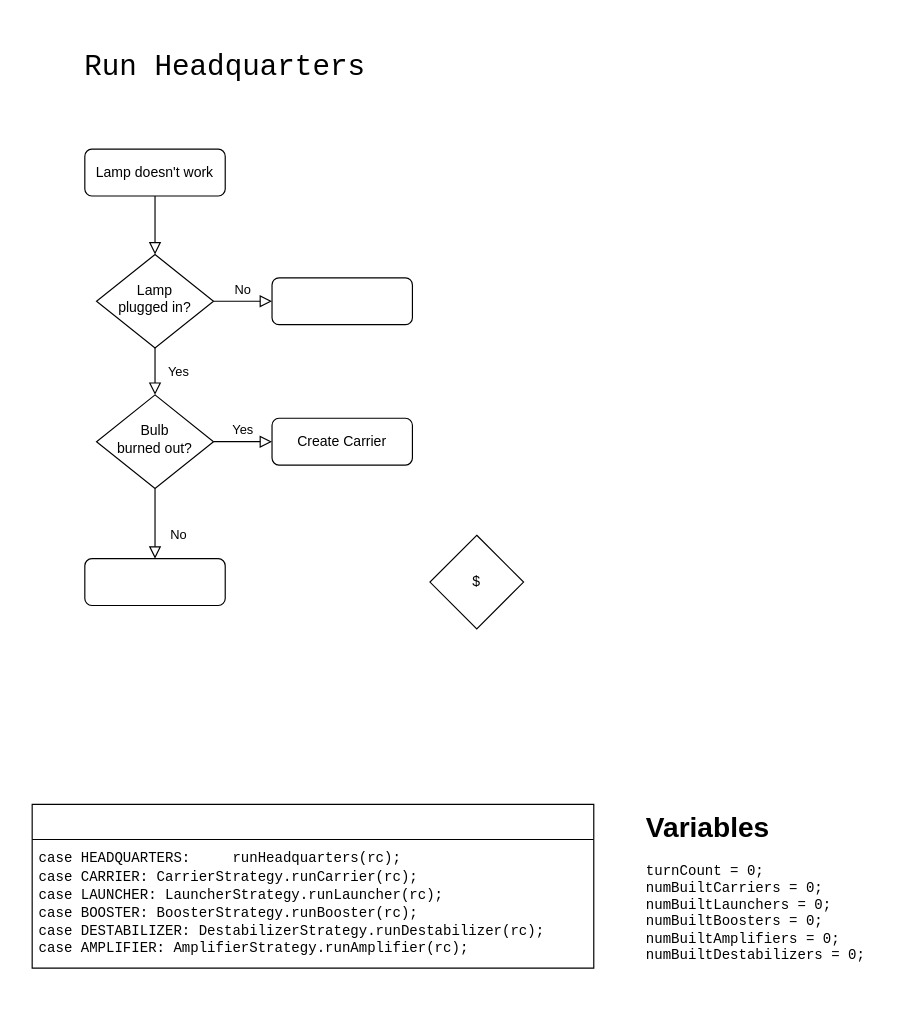
The diagram is 917 pixels wide and 1011 high, and some of its shapes have lost their labels. Each missing label, with the box of its shape:
Create Launcher: (271, 277, 412, 325)
Repair Lamp: (84, 558, 225, 605)
Robot Type: (31, 803, 594, 968)
